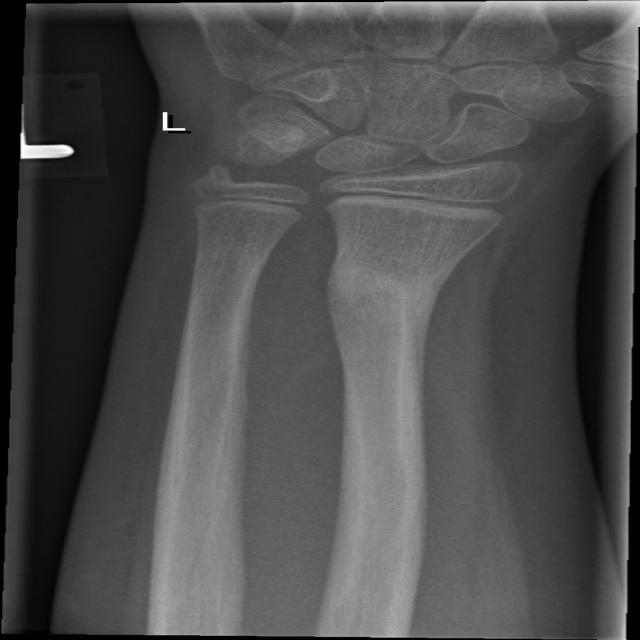radius fracture: (300, 239, 500, 437)
